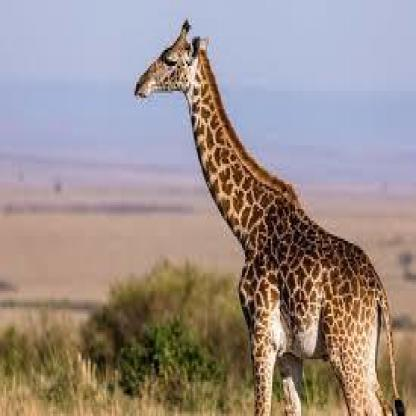giraffe: (134, 16, 406, 411)
